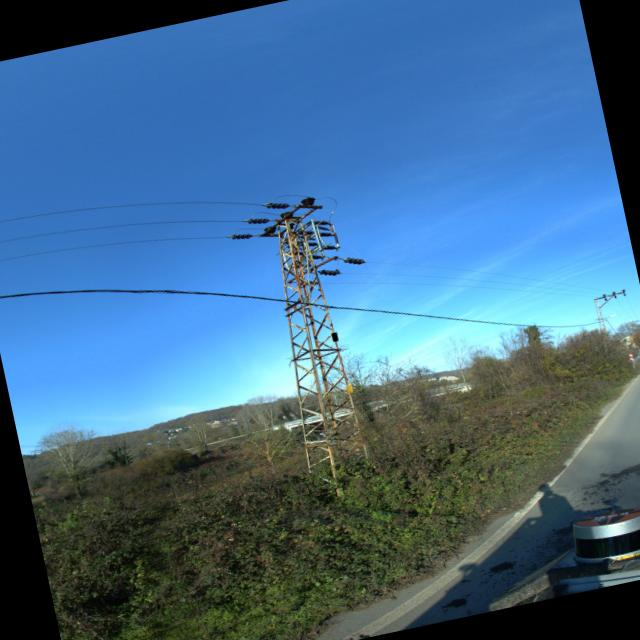Utility Pole Information Plate: (331, 333, 338, 341)
